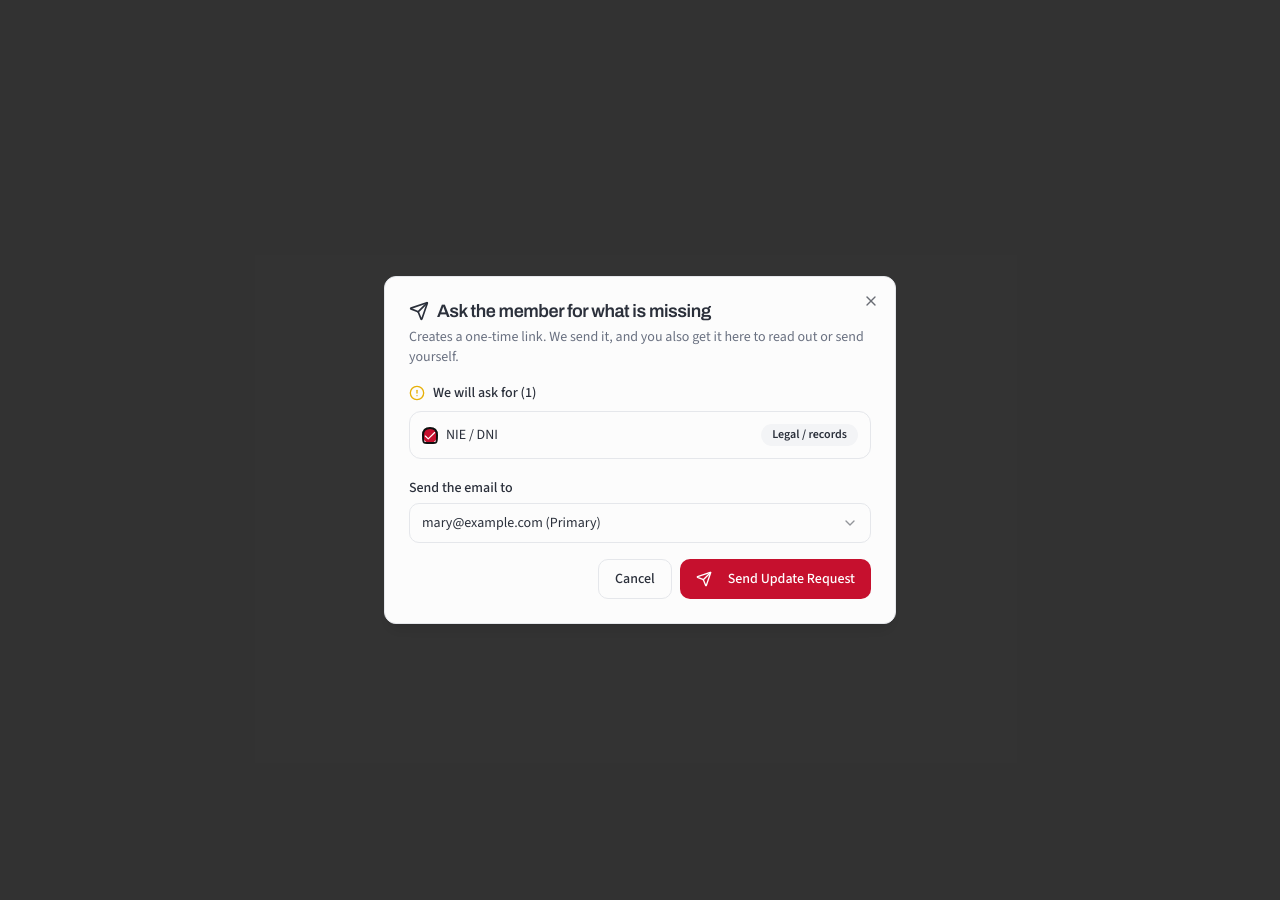
Test: the member's update link › refuses to forward a field only WE can supply, whatever the caller ticked
Step 1. Click the button "Send Update Request" → click(775, 579), box [680, 559, 871, 599]
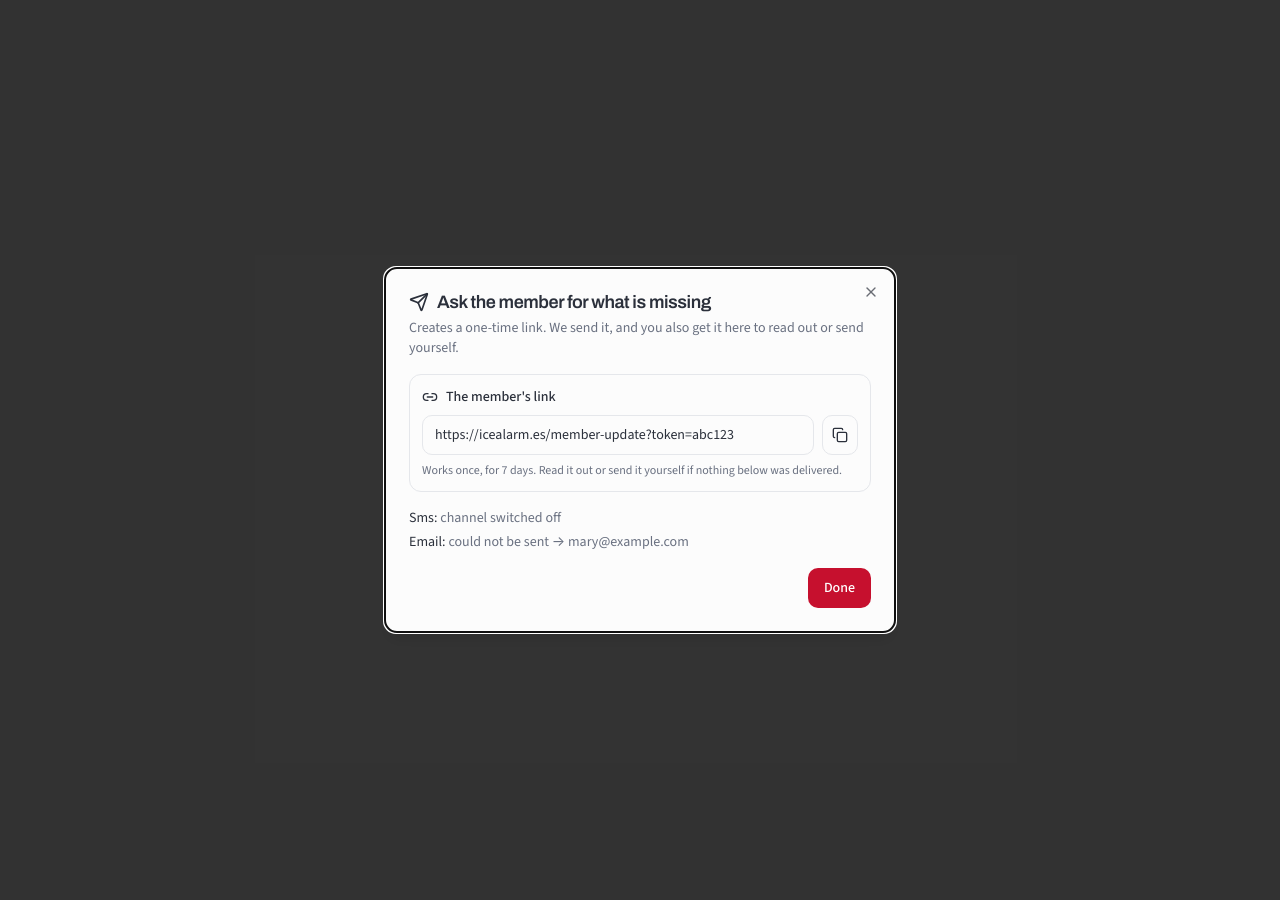
Result: the element with test id "update-request-result" is shown at [409, 374, 871, 552]
